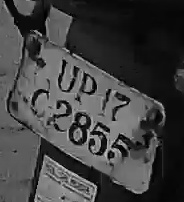1: (100, 86, 111, 116)
2: (46, 98, 72, 135)
5: (107, 133, 139, 168), (88, 119, 113, 157)
7: (110, 91, 131, 122)
8: (67, 108, 91, 147)
C: (31, 86, 53, 117)
P: (75, 72, 98, 103)
U: (57, 59, 79, 94)
